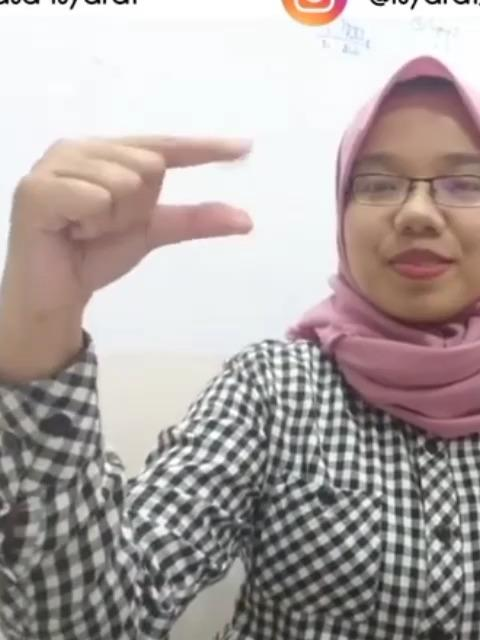G: (5, 133, 257, 287)
